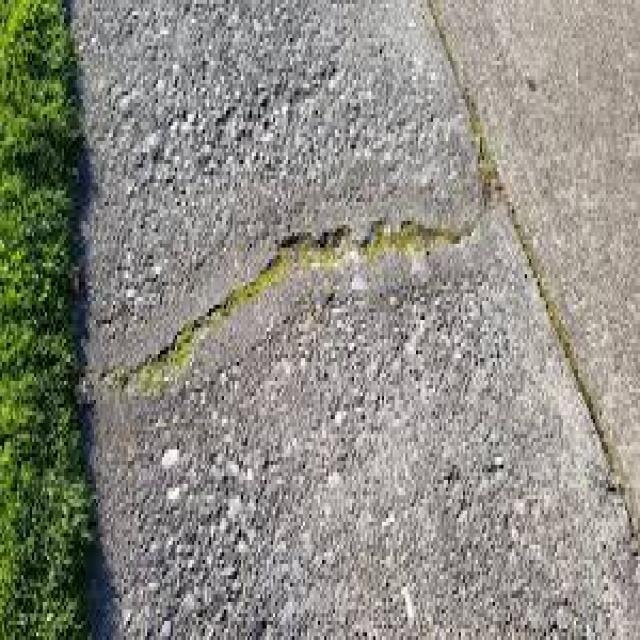Pothole: (29, 173, 633, 602)
